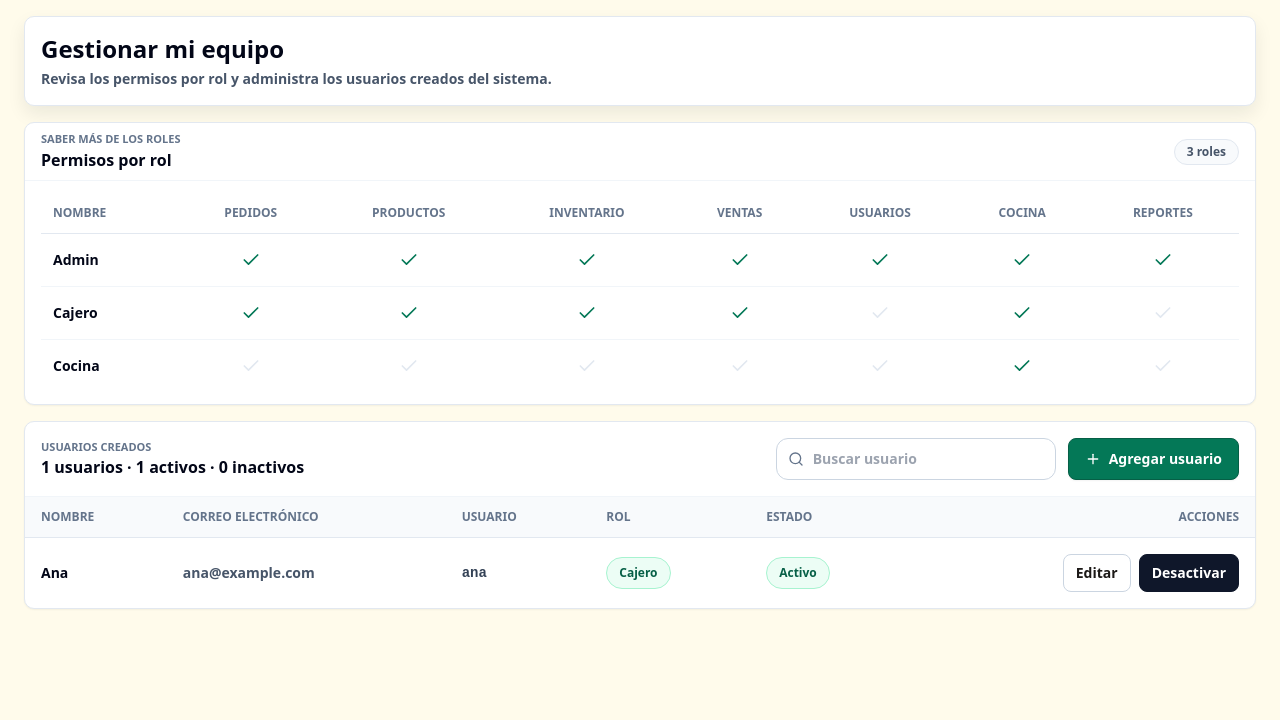
Scenario: gestión de usuarios › diferencia la actualización de un usuario
Click the button "Editar".
click(1097, 573)  # box [1063,554,1131,592]
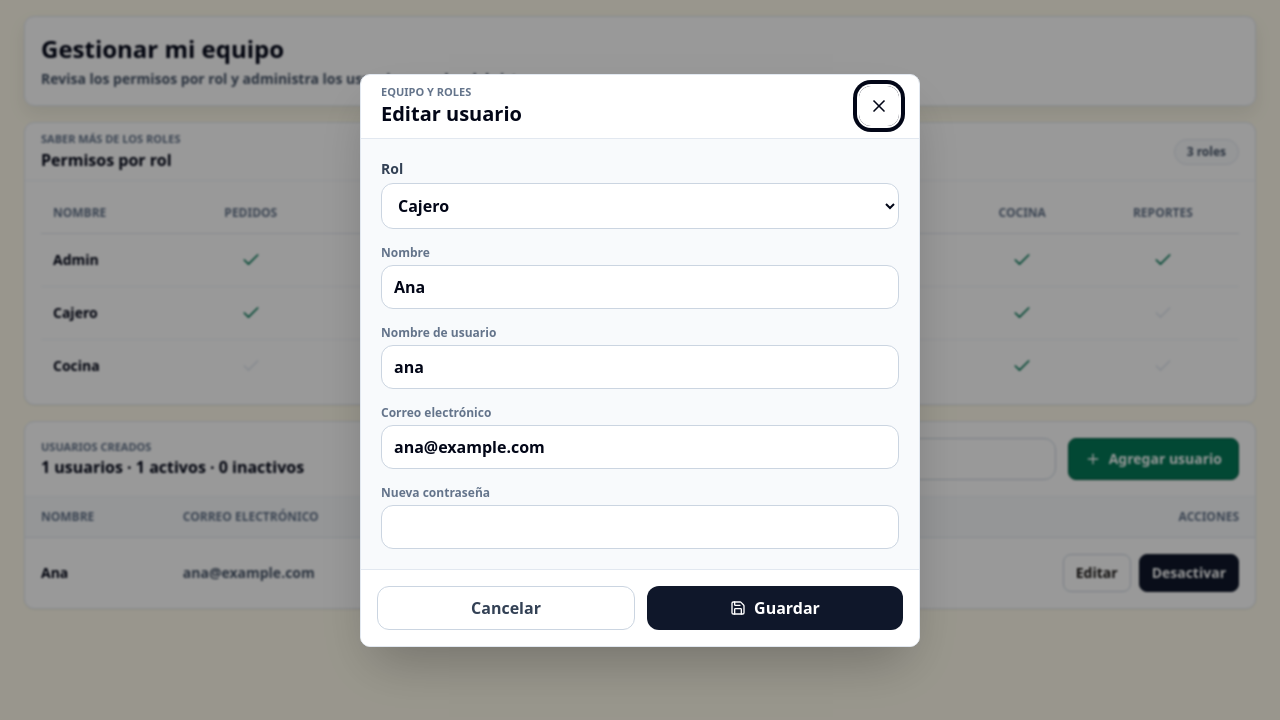
Replace the text in the field labelled "Nombre" with "Ana actualizada" at (640, 286), box [381,264,899,308]
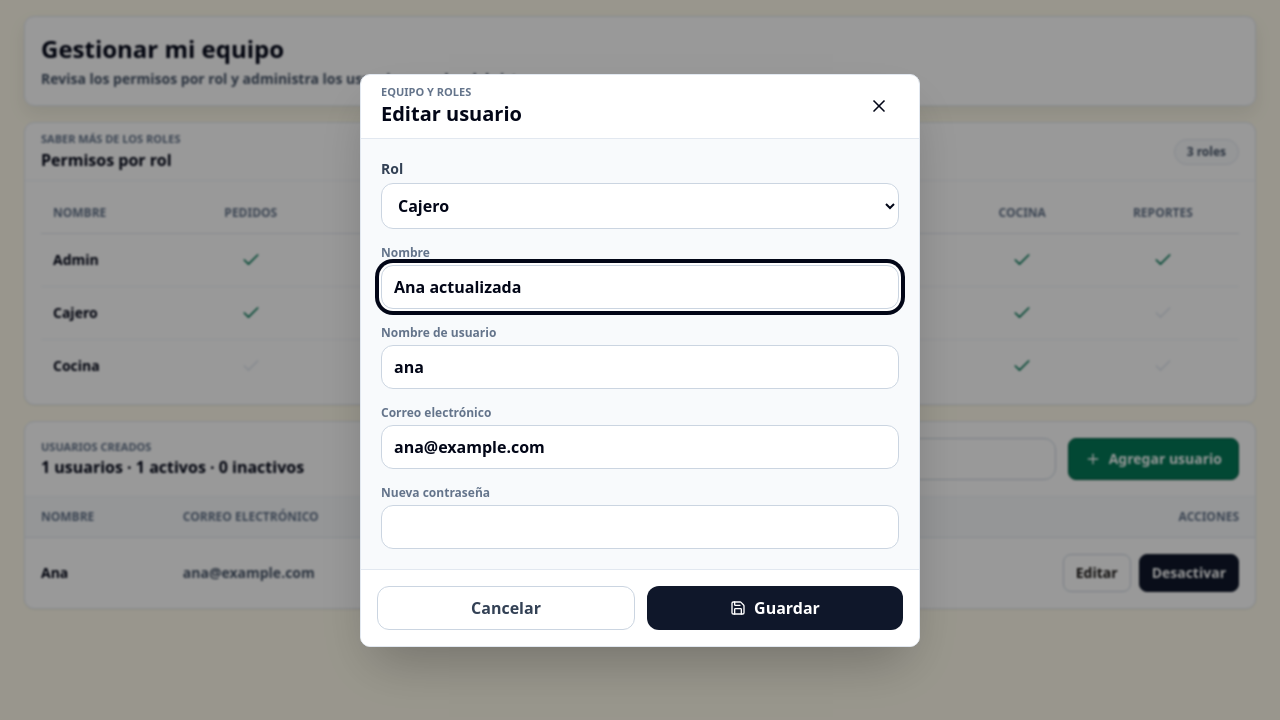
Click the button "Guardar".
click(775, 608)  # box [647,586,903,630]
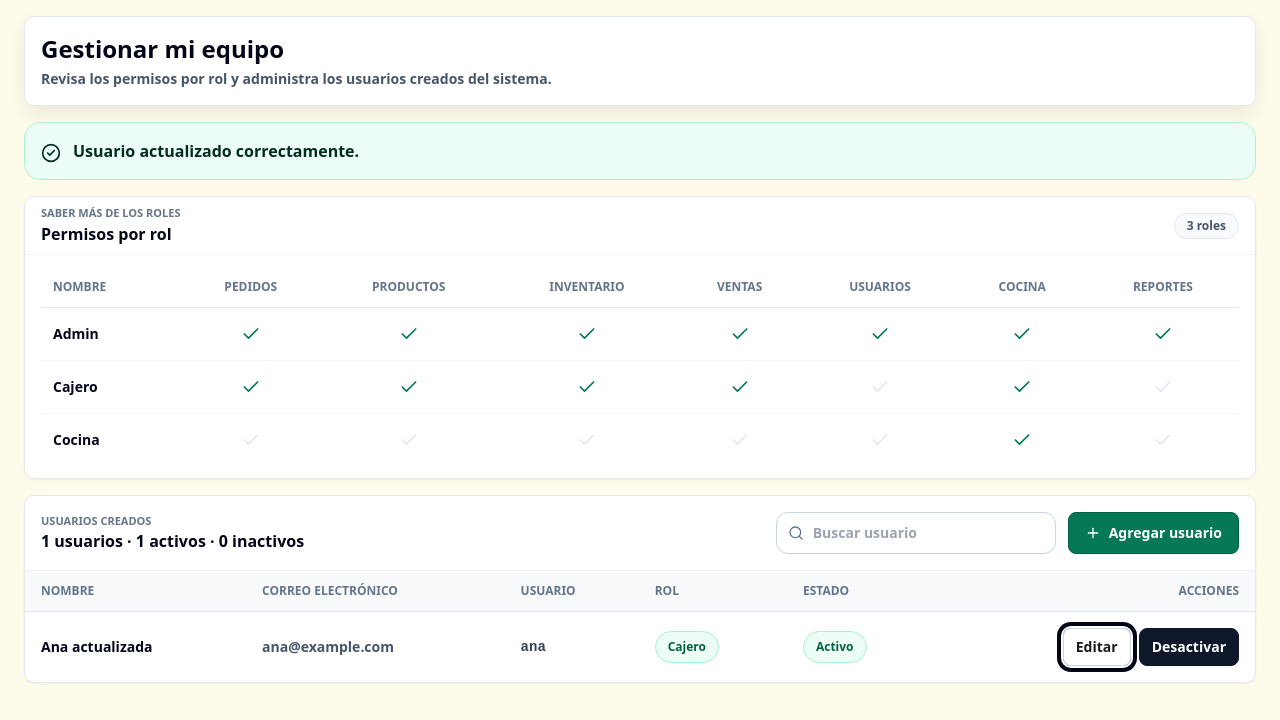
Check: the text "Usuario actualizado correctamente." is shown, box [73,139,359,163]
